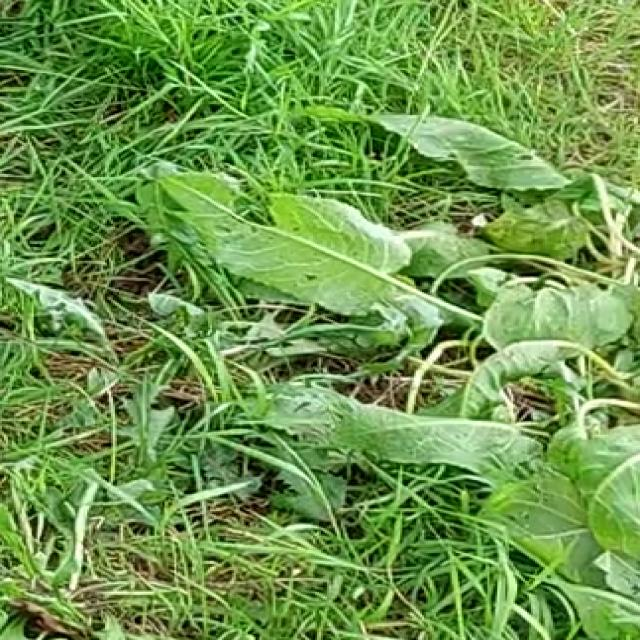organic waste: (53, 87, 640, 544)
